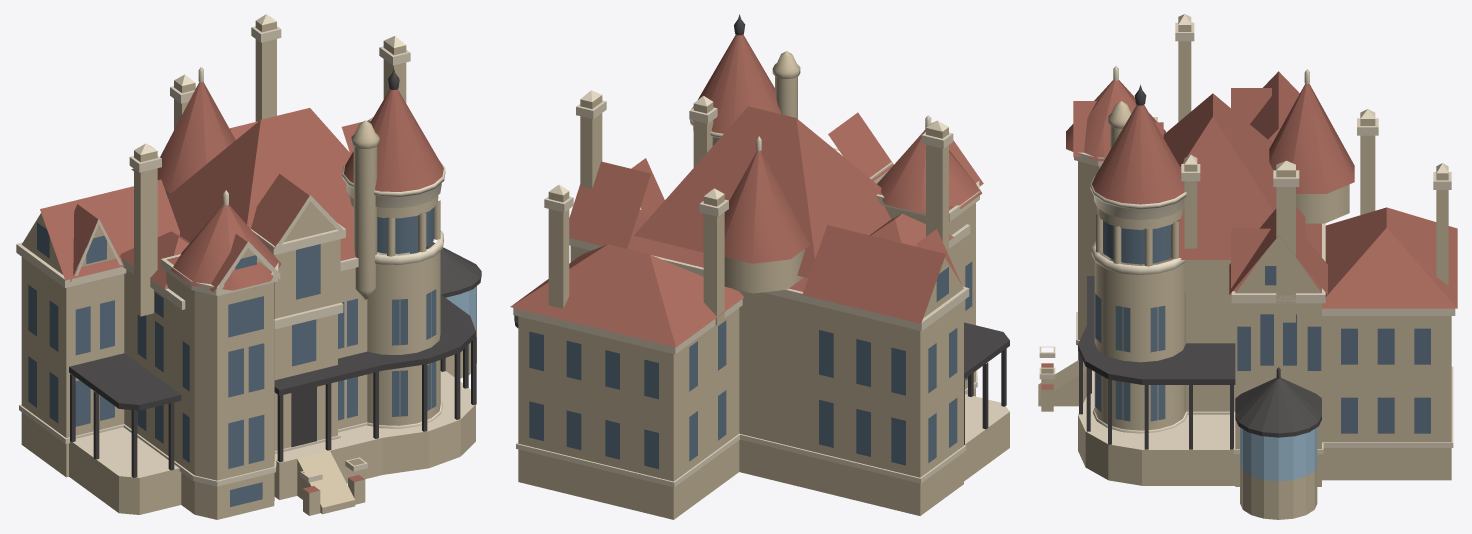
The model's file is hou-bishops-palace.glb.
3 renders of one model, left to right at view 1: azimuth 30°, elevation 25°; view 2: azimuth 150°, elevation 25°; view 3: azimuth 270°, elevation 25°, orthographic. The views are drawn at different scales.
Visible parts, largest first — view 1: Bishop's Palace; view 2: Bishop's Palace; view 3: Bishop's Palace.
Boxes of the visible parts, x1=… form: Bishop's Palace: x1=16, y1=14, x2=481, y2=519; Bishop's Palace: x1=510, y1=14, x2=1009, y2=519; Bishop's Palace: x1=1038, y1=14, x2=1457, y2=519.
Bounding box in the file's own units: 31.95 × 26.4 × 27.49.
